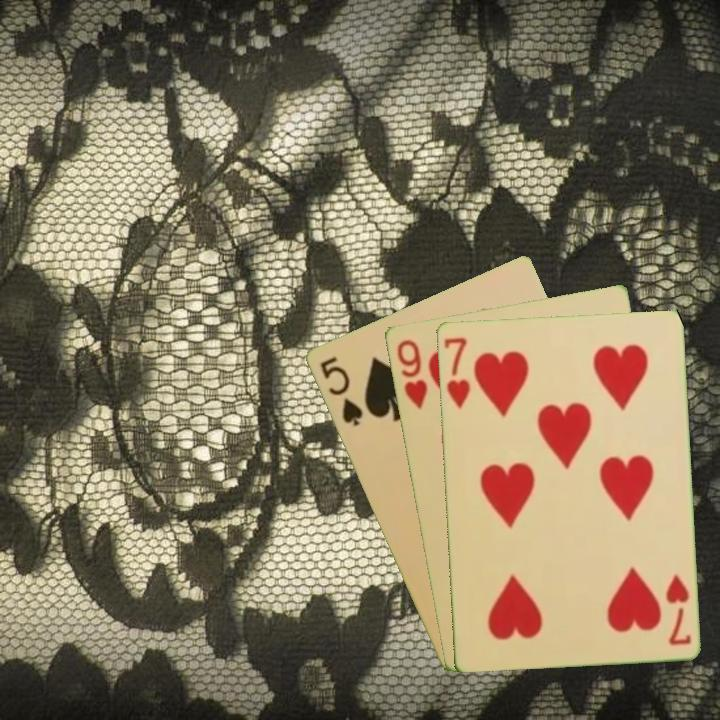5s: (316, 352, 366, 429)
7h: (440, 333, 473, 411), (662, 570, 693, 648)
9h: (393, 335, 430, 411)
